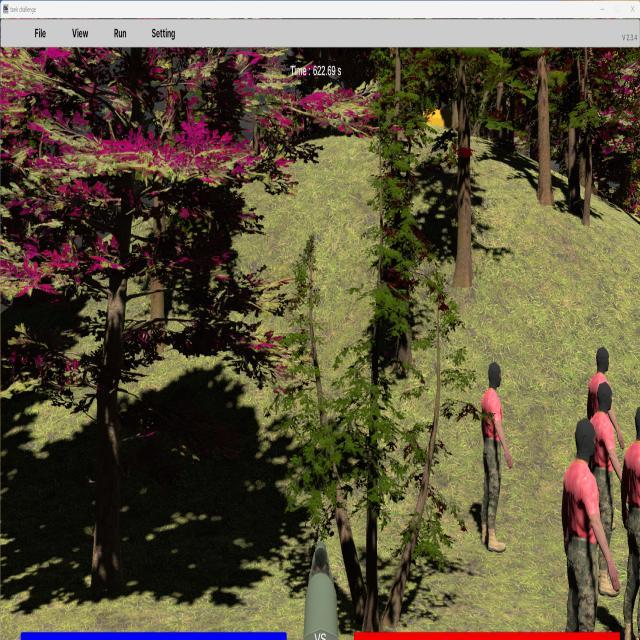Human: (560, 417, 617, 635), (588, 382, 628, 606), (588, 384, 628, 608), (480, 360, 512, 553), (620, 393, 640, 626)
